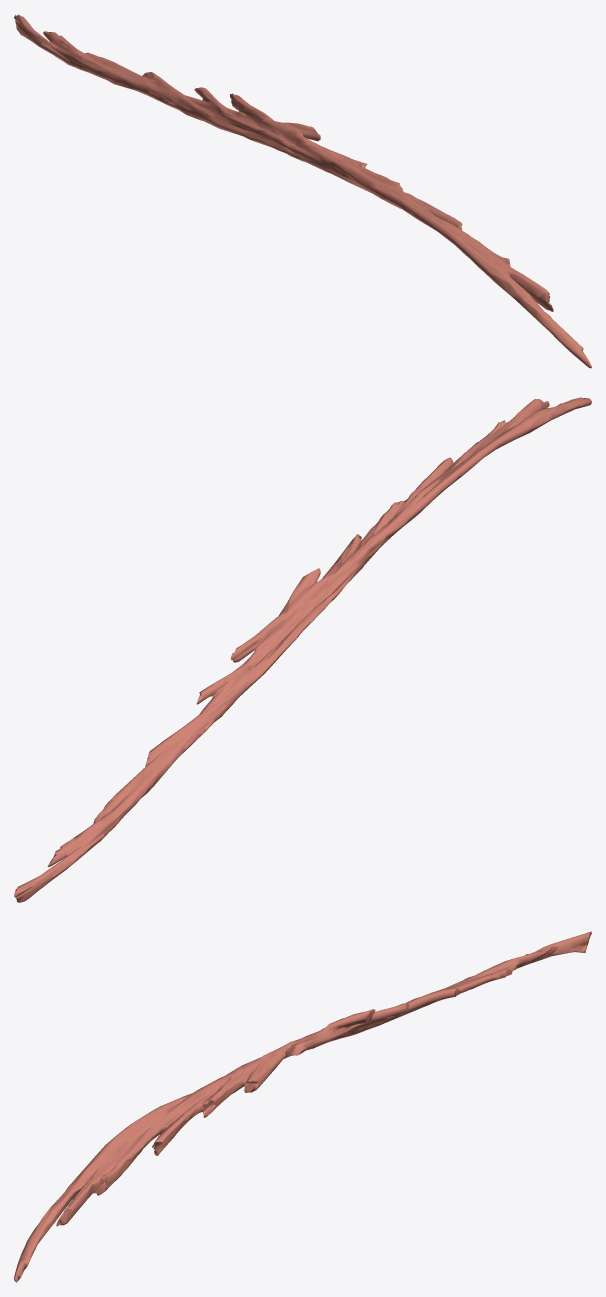
3 renders of one model, top to bottom at view 1: azimuth 30°, elevation 25°; view 2: azimuth 150°, elevation 25°; view 3: azimuth 330°, elevation 25°, orthographic.
Parts seen in each view (by area): view 1: 右侧胸棘肌; view 2: 右侧胸棘肌; view 3: 右侧胸棘肌.
Boxes of the visible parts, bbox=[...] form: 右侧胸棘肌: bbox=[14, 14, 591, 368]; 右侧胸棘肌: bbox=[14, 397, 591, 902]; 右侧胸棘肌: bbox=[14, 931, 591, 1282].
Size of the model in its own units: 0.0186 by 0.0728 by 0.5562.
